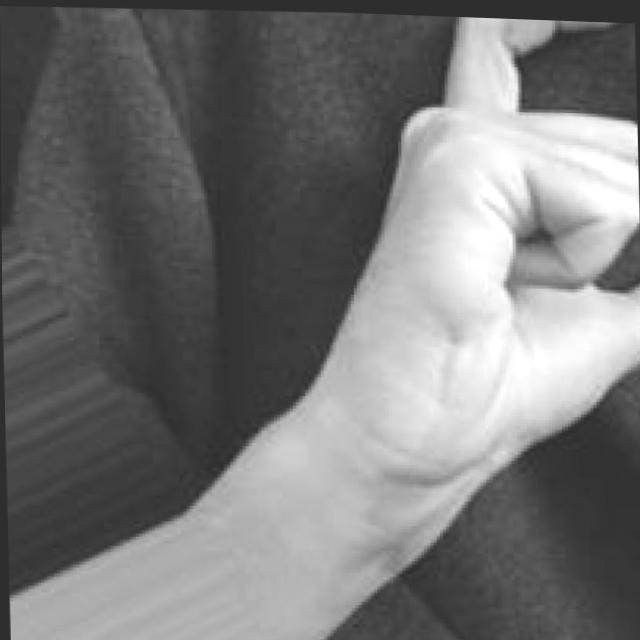C: (327, 12, 640, 516)
